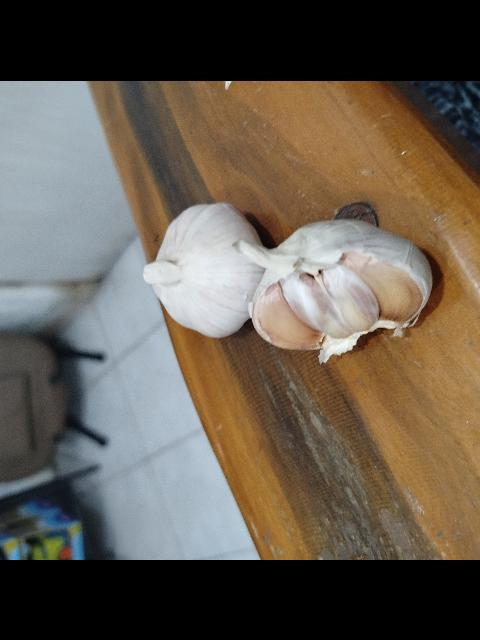garlic: (232, 205, 434, 363), (142, 200, 266, 338)
